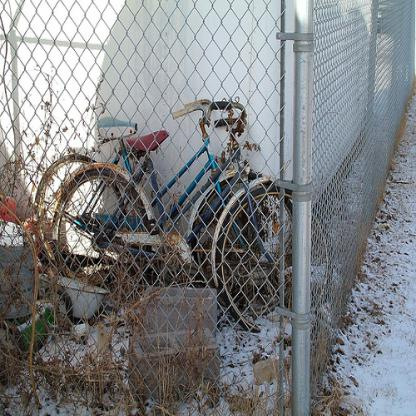bicycle: (51, 99, 332, 333), (32, 99, 264, 284)
